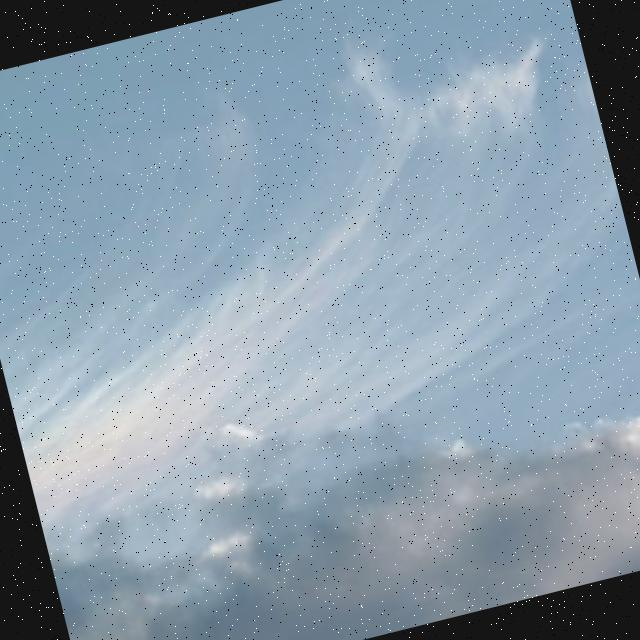Ci: (60, 1, 620, 440)
